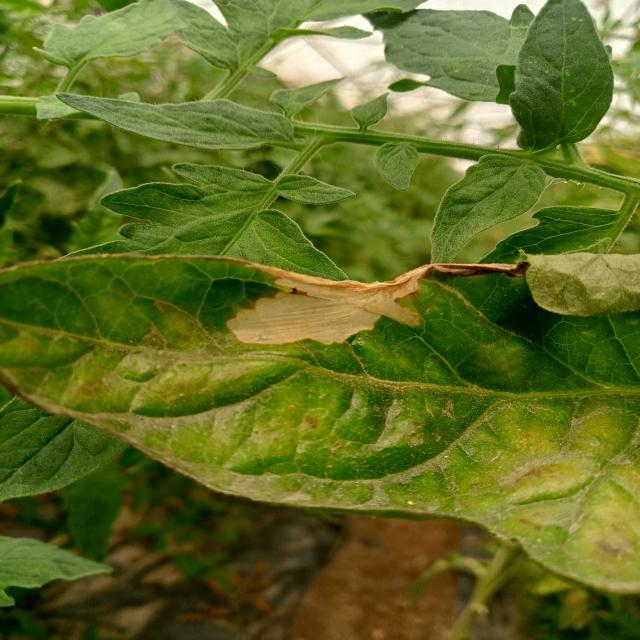Tuta absoluta: (227, 265, 431, 345)
